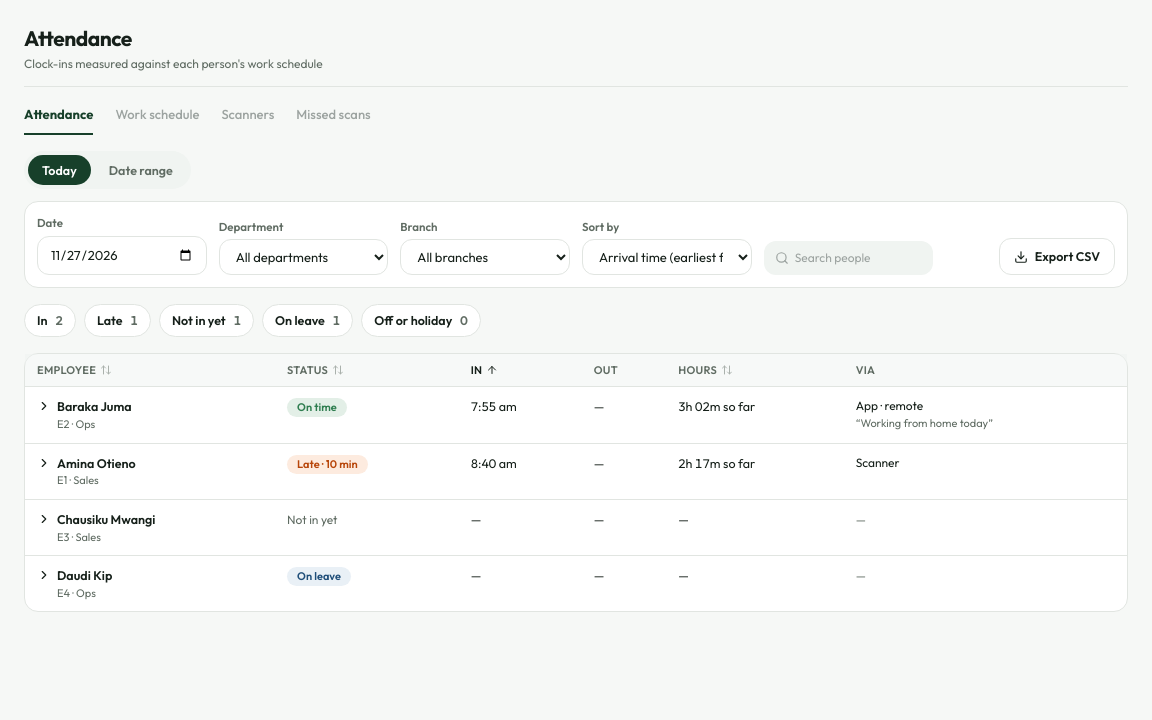
it: Attendance: the Today view (FIG-1203) › sorts by a header, and the same header again reverses it
Later steps or results of the test are not shown.
expect the text "Amina Otieno" is shown: met, box [57,454,136,472]
What coordinates should you click on to do the following:
click the button "Employee"
I would click on:
 (75, 370)
Its box is [37,362,112,378].
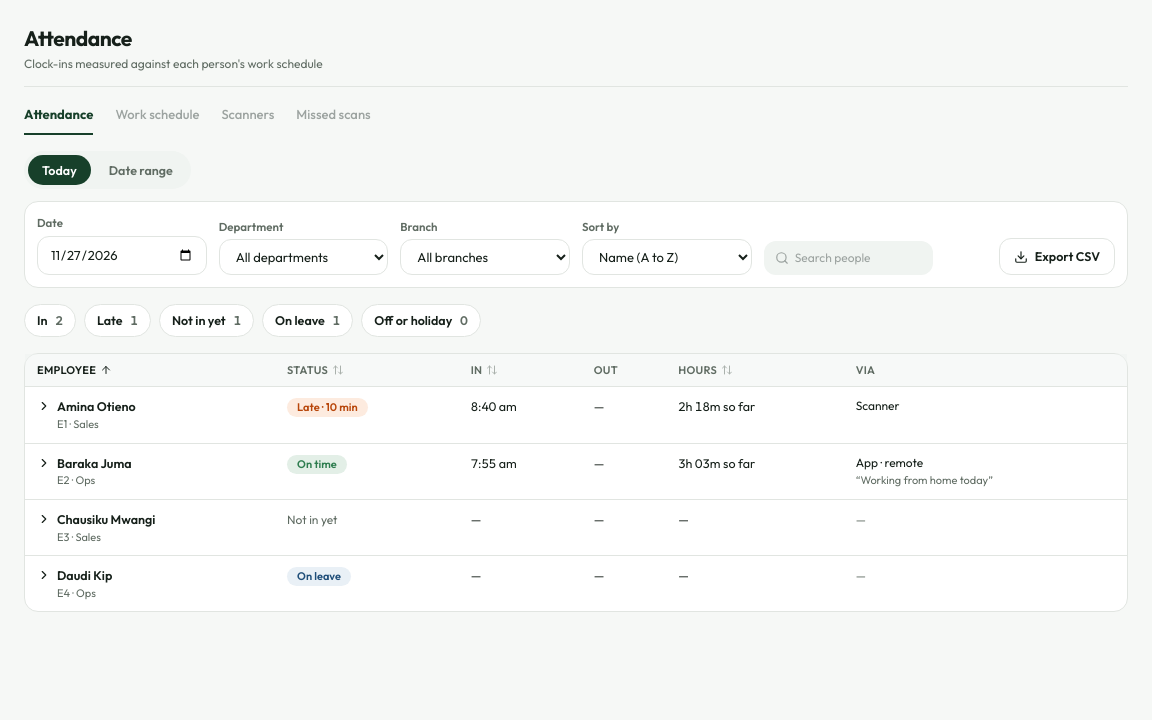
expect the column heading "Employee" has attribute aria-sort="ascending": met, box [25,354,275,387]
expect the column heading "In" has attribute aria-sort="none": met, box [459,354,582,387]
What coordinates should you click on to do the following:
click the button "Employee"
I would click on:
 (75, 370)
Its box is [37,362,112,378].
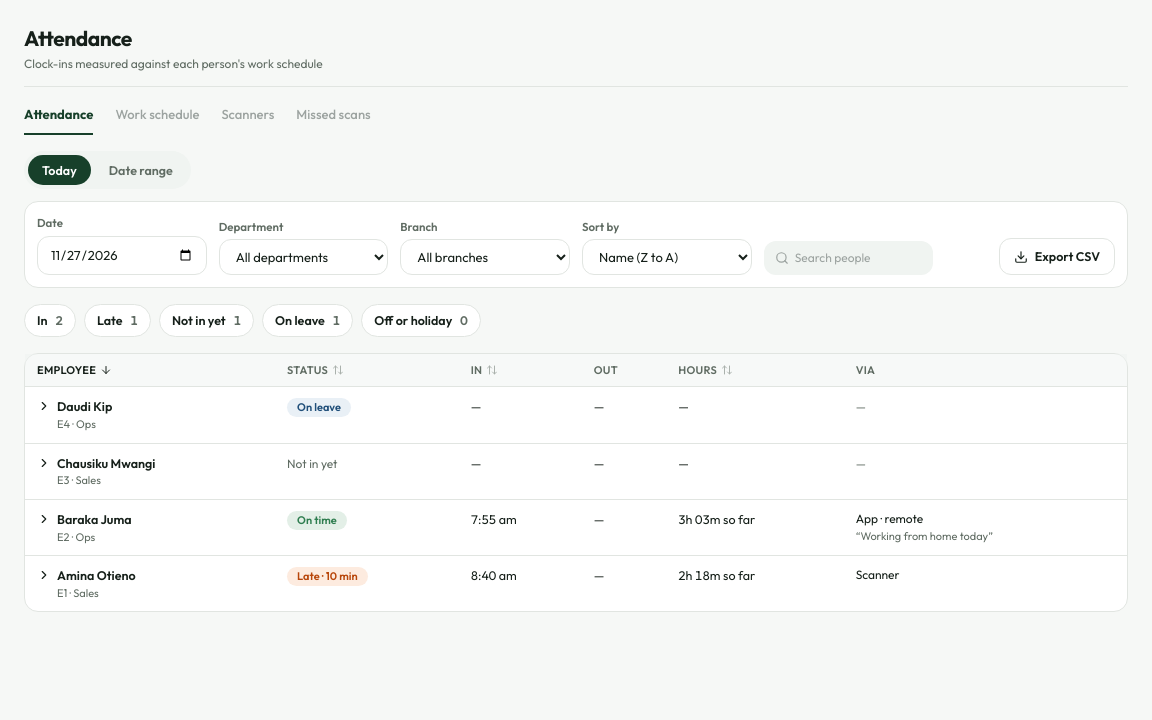
expect the column heading "Employee" has attribute aria-sort="descending": met, box [25,354,275,387]
